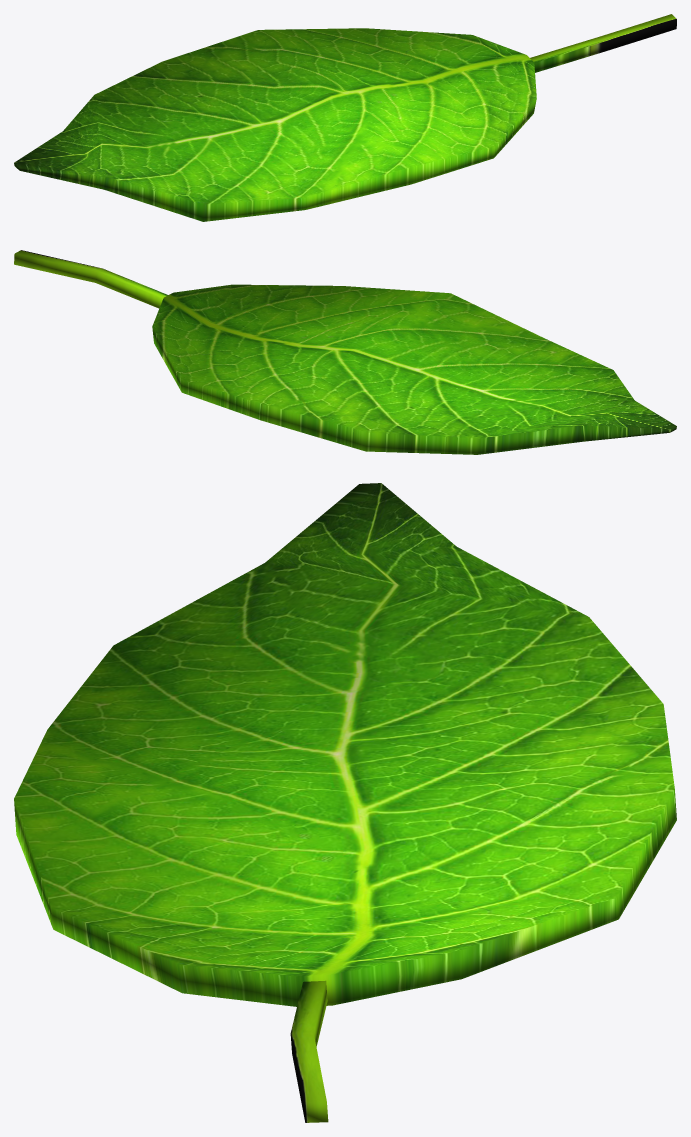
The model's file is leaf.fbx.
3 renders of one model, top to bottom at view 1: azimuth 30°, elevation 25°; view 2: azimuth 150°, elevation 25°; view 3: azimuth 270°, elevation 25°, orthographic. The views are drawn at different scales.
Parts seen in each view (by area): view 1: leaves.001; view 2: leaves.001; view 3: leaves.001.
Boxes of the visible parts, x1=… form: leaves.001: x1=14, y1=14, x2=676, y2=221; leaves.001: x1=14, y1=250, x2=676, y2=454; leaves.001: x1=14, y1=483, x2=676, y2=1122.
Size of the model in its own units: 126 by 7.8 by 56.74.
Materials: 1 (1 with a texture image).
